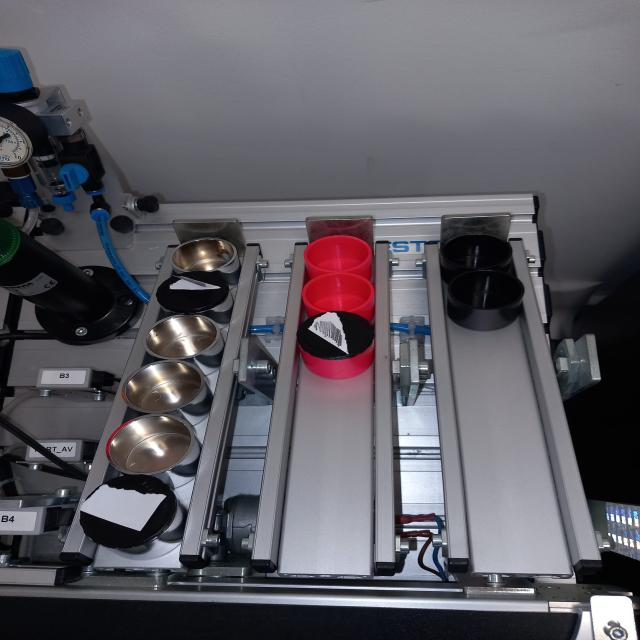NoLid: (436, 274, 526, 334), (106, 416, 195, 476), (142, 316, 230, 365), (126, 365, 212, 415), (438, 232, 522, 274), (295, 276, 380, 317), (300, 228, 377, 270), (169, 236, 246, 274)
